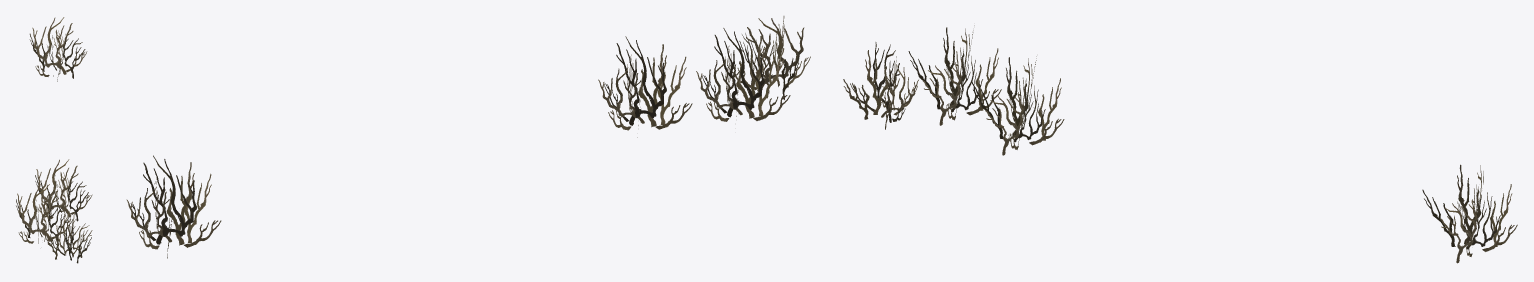
Rendered from Area_15_23.fbx.
3 views of the same model, side by side, from view 1: azimuth 30°, elevation 25°; view 2: azimuth 150°, elevation 25°; view 3: azimuth 270°, elevation 25° (orthographic). The views are drawn at different scales.
Visible parts, largest first — view 1: Area_15_23; view 2: Area_15_23; view 3: Area_15_23.
Part boxes in pixels (left/top/right/bottom): Area_15_23: left=16, top=17, right=92, bottom=263; Area_15_23: left=126, top=16, right=810, bottom=258; Area_15_23: left=843, top=25, right=1517, bottom=263.
Bounding box in the file's own units: 1173 × 280 × 1867.
1 material, 1 textured.
